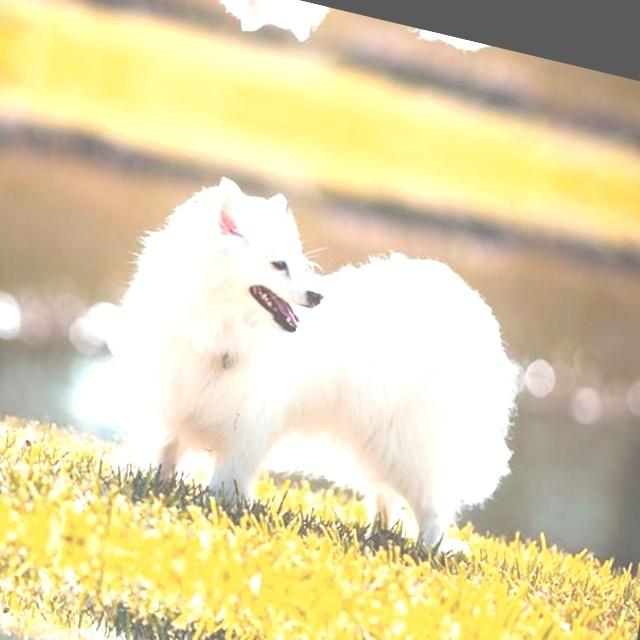dog: (76, 145, 544, 578), (137, 0, 568, 111), (52, 599, 484, 640)
